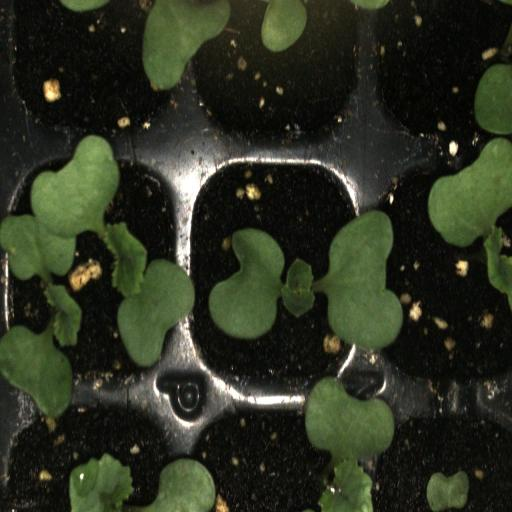seedling: (186, 152, 368, 397), (372, 154, 512, 395)
twoseedling: (1, 154, 193, 401)
